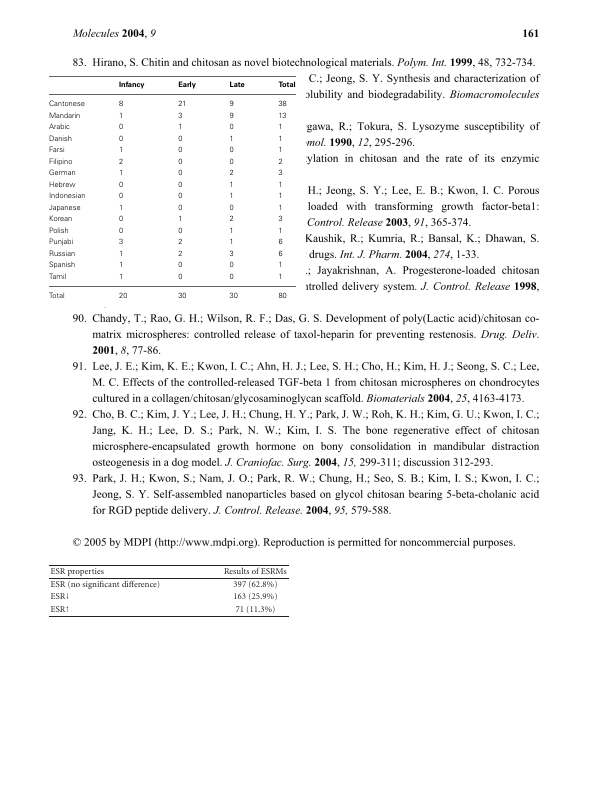borderless: (47, 75, 297, 301), (47, 563, 289, 616)
cell: (49, 580, 161, 590), (223, 567, 288, 577), (49, 567, 105, 577), (234, 604, 276, 615), (232, 580, 278, 590), (232, 592, 278, 602), (48, 192, 86, 201), (48, 100, 85, 109), (48, 112, 81, 121), (48, 204, 81, 213), (117, 81, 145, 90), (48, 169, 76, 178), (48, 181, 76, 190), (48, 250, 76, 259), (48, 261, 76, 270), (49, 604, 71, 615), (48, 238, 74, 247), (48, 158, 73, 167), (48, 215, 73, 224), (49, 592, 71, 602), (48, 135, 72, 144), (48, 123, 70, 132), (48, 227, 69, 236), (177, 81, 196, 90), (277, 81, 296, 90), (48, 273, 67, 282), (228, 81, 245, 90), (48, 146, 65, 155), (48, 292, 65, 301), (117, 292, 128, 301), (177, 100, 187, 109), (277, 100, 287, 109), (277, 112, 287, 121), (177, 292, 187, 301), (228, 292, 238, 301), (277, 292, 287, 301), (117, 100, 124, 109), (117, 112, 124, 121), (117, 123, 124, 132), (117, 135, 124, 144), (117, 146, 124, 155), (117, 158, 124, 167), (117, 169, 124, 178), (117, 181, 124, 190), (117, 192, 124, 201), (117, 204, 124, 213), (117, 215, 124, 224), (117, 227, 124, 236), (117, 238, 124, 247), (117, 250, 124, 259), (117, 261, 124, 270), (117, 273, 124, 282), (228, 100, 234, 109), (177, 112, 183, 121), (228, 112, 234, 121), (177, 123, 183, 132), (228, 123, 234, 132), (277, 123, 283, 132), (177, 135, 183, 144), (228, 135, 234, 144), (277, 135, 283, 144), (177, 146, 183, 155), (228, 146, 234, 155), (277, 146, 283, 155), (177, 158, 183, 167), (228, 158, 234, 167), (277, 158, 283, 167), (177, 169, 183, 178), (228, 169, 234, 178), (277, 169, 283, 178), (177, 181, 183, 190), (228, 181, 234, 190), (277, 181, 283, 190), (177, 192, 183, 201), (228, 192, 234, 201), (277, 192, 283, 201), (177, 204, 183, 213), (228, 204, 234, 213), (277, 204, 283, 213), (177, 215, 183, 224), (228, 215, 234, 224), (277, 215, 283, 224), (177, 227, 183, 236), (228, 227, 234, 236), (277, 227, 283, 236), (177, 238, 183, 247), (228, 238, 234, 247), (277, 238, 283, 247), (177, 250, 183, 259), (228, 250, 234, 259), (277, 250, 283, 259), (177, 261, 183, 270), (228, 261, 234, 270), (277, 261, 283, 270), (177, 273, 183, 282), (228, 273, 234, 282), (277, 273, 283, 282)
